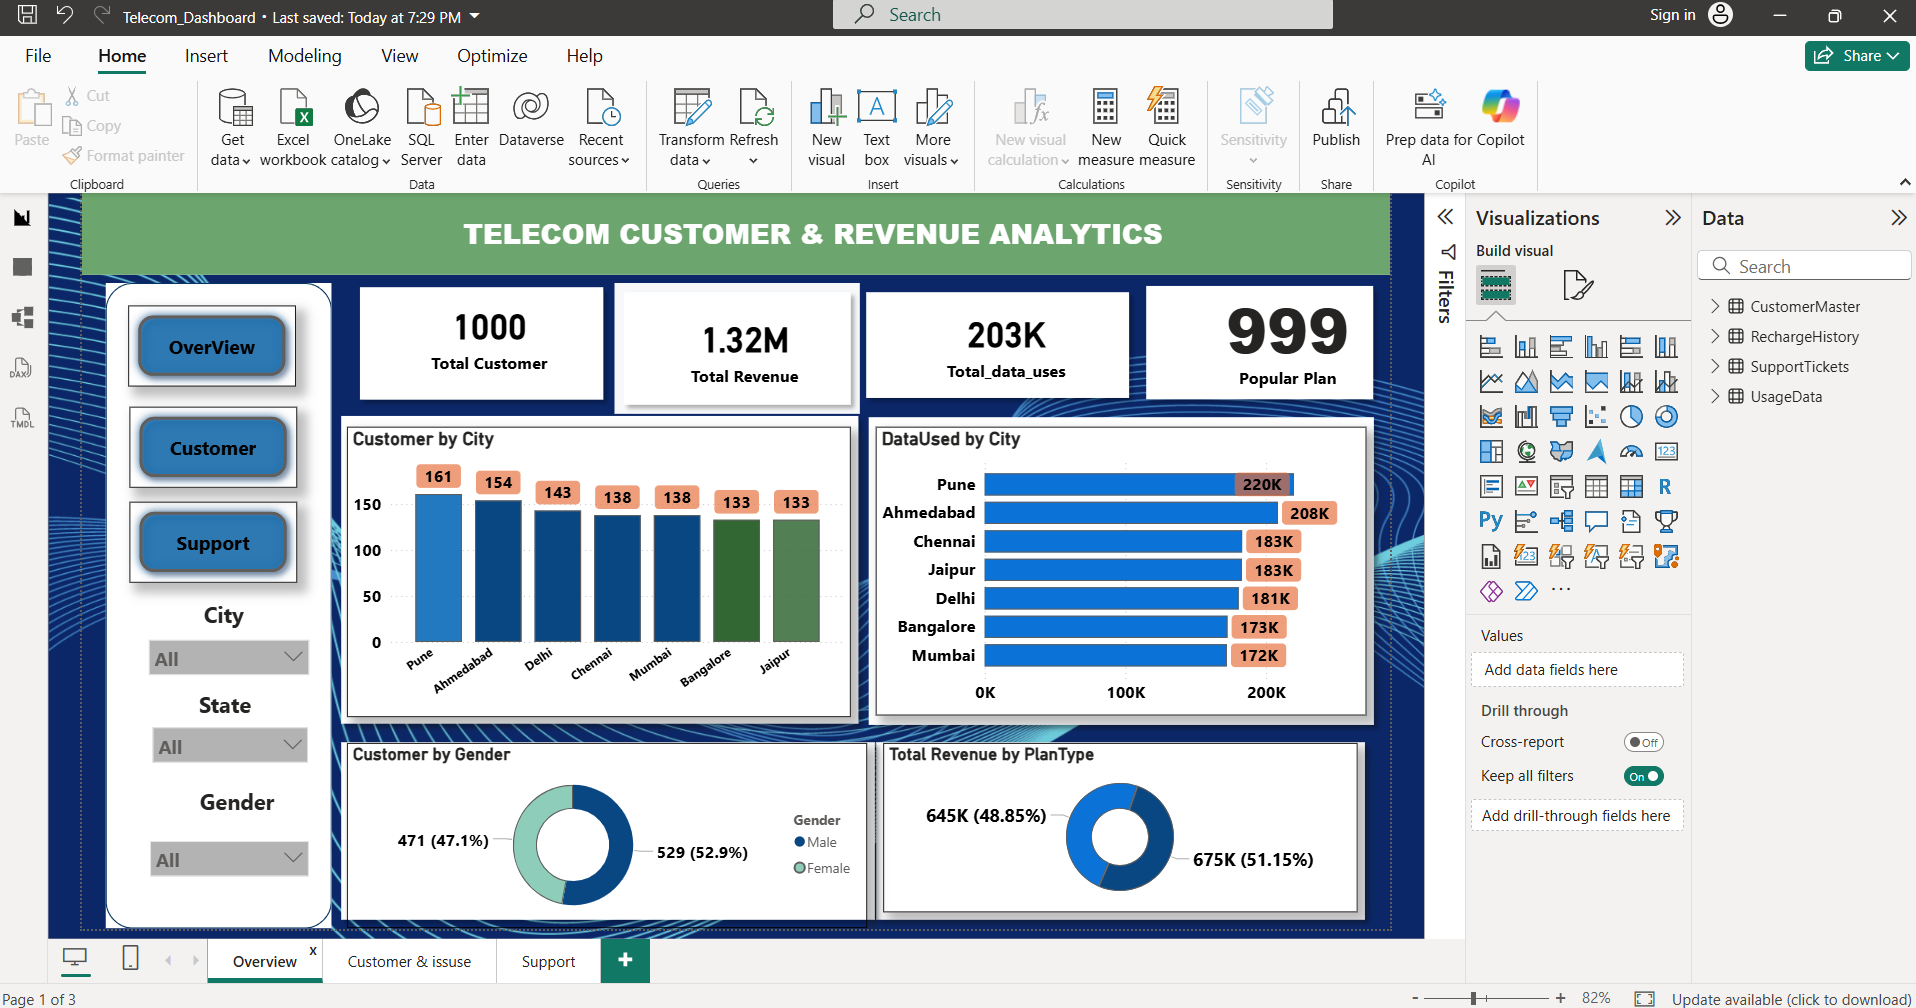

What the dashboard file says about the page in this screenshot:
{"tool":"powerbi","page":{"name":"Overview","canvas":[1280,720],"ordinal":0},"visuals":[{"type":"shape","box":[0,0,1280,80],"z":0},{"type":"shape","box":[263.4,83.4,256,128],"z":0,"group":"g10"},{"type":"shape","box":[761,210.7,512.2,319],"z":0,"group":"g4"},{"type":"group","id":"g1","title":"Group 4","box":[244.4,528.3,540,191.7],"z":0,"group":"g9"},{"type":"shape","box":[758.6,87.8,275.1,121.5],"z":1000,"group":"g7"},{"type":"card","fields":{"Values":["CustomerMaster.Total Customer"]},"box":[279.4,99.4,240,80],"z":1000,"group":"g10"},{"type":"group","id":"g2","title":"Group 4","box":[244.4,209.3,523.9,319],"z":1000},{"type":"shape","box":[244.4,209.3,523.9,319],"z":1000,"group":"g2"},{"type":"clusteredBarChart","title":"DataUsed by City","fields":{"Category":["CustomerMaster.City"],"Y":["RechargeHistory.Total Revenue"]},"box":[776.8,229,480,282.6],"z":1000,"group":"g4"},{"type":"shape","box":[244.4,528.3,540,191.7],"z":1000,"group":"g1"},{"type":"shape","box":[768.3,528.3,496.1,191.7],"z":1000,"group":"g3"},{"type":"image","box":[263.4,115.4,80,48],"z":2000,"group":"g10"},{"type":"group","id":"g3","title":"Group 4","box":[768.3,528.3,496.1,191.7],"z":2000},{"type":"textbox","box":[368,16,752,64],"z":3000},{"type":"shape","box":[520.9,88,240,128],"z":3000,"group":"g6"},{"type":"card","fields":{"Values":["RechargeHistory.Total Revenue"]},"box":[568.9,104,160,96],"z":4000,"group":"g6"},{"type":"group","id":"g4","title":"Group 5","box":[761,210.7,512.2,319],"z":4000},{"type":"image","box":[536.9,120,80,64],"z":5000,"group":"g6"},{"type":"donutChart","fields":{"Category":["CustomerMaster.PlanType"],"Y":["RechargeHistory.Total Revenue"]},"box":[784.4,538.5,463.9,165.4],"z":5000},{"type":"shape","box":[22.7,87.8,221.1,631.4],"z":6000},{"type":"textbox","box":[39.4,480,201.4,48.5],"z":7000},{"type":"textbox","box":[46.8,392.2,184.4,48.3],"z":8000},{"type":"group","id":"g5","title":"Group 1","box":[263.4,83.4,256.1,127.3],"z":9000},{"type":"card","fields":{"Values":["UsageData.Total_data_uses"]},"box":[792.8,83.4,223.9,127.3],"z":9000,"group":"g7"},{"type":"group","id":"g6","title":"Group 3","box":[520.9,88,239.7,128.4],"z":10000},{"type":"image","box":[758,113.3,80,48],"z":10000,"group":"g7"},{"type":"group","id":"g7","title":"Group 4","box":[758,83.4,275.1,127.3],"z":11000},{"type":"group","id":"g8","title":"Group 6","box":[1031.7,77.8,240,132.6],"z":12000},{"type":"group","id":"g9","title":"Group 7","box":[244.4,528.3,540,191.7],"z":13000},{"type":"slicer","fields":{"Values":["CustomerMaster.City"]},"box":[54.5,427,177.2,65.1],"z":14000},{"type":"slicer","fields":{"Values":["CustomerMaster.State"]},"box":[59.1,511.8,172.6,63.6],"z":15000},{"type":"donutChart","title":"Customer  by Gender","fields":{"Category":["CustomerMaster.Gender"],"Y":["CustomerMaster.Total Customer"]},"box":[259.3,537.9,509.1,181.1],"z":16000},{"type":"clusteredColumnChart","title":"Customer by City","fields":{"Category":["CustomerMaster.City"],"Y":["CustomerMaster.Total Customer"]},"box":[259,228.3,493.2,283.9],"z":17000},{"type":"actionButton","title":"Over","box":[46.8,209.3,163.9,79],"z":18000},{"type":"actionButton","title":"Over","box":[46.8,301.5,163.9,79],"z":19000},{"type":"shape","box":[1031.7,81.6,240,128.8],"z":20000,"group":"g8"},{"type":"textbox","box":[93.9,575.4,115.1,45.4],"z":20000},{"type":"image","box":[1033.4,108.7,112,48],"z":20250,"group":"g8"},{"type":"card","fields":{"Values":["RechargeHistory.Popular Plan"]},"box":[1092.1,77.8,175.6,127.3],"z":20500,"group":"g8"},{"type":"group","id":"g10","title":"Group 2","box":[263.4,83.4,256.1,127.3],"z":20501,"group":"g5"},{"type":"slicer","fields":{"Values":["CustomerMaster.Gender"]},"box":[56,623.9,175.6,63.6],"z":21000},{"type":"actionButton","title":"Over","box":[45.4,109.8,163.9,79],"z":22000}]}

Visuals, with their boxes on the page's 1280x720 design canvas (x1, y1, x2, y2). These are canvas units, not pixel positions in the 1916x1008 screenshot, which may show the page scaled, cropped or inside an application window:
shape: (0, 0, 1280, 80)
shape: (263, 83, 519, 211)
shape: (761, 211, 1273, 530)
"Group 4" group: (244, 528, 784, 720)
shape: (759, 88, 1034, 209)
card - CustomerMaster.Total Customer: (279, 99, 519, 179)
"Group 4" group: (244, 209, 768, 528)
shape: (244, 209, 768, 528)
"DataUsed by City" clusteredBarChart: (777, 229, 1257, 512)
shape: (244, 528, 784, 720)
shape: (768, 528, 1264, 720)
image: (263, 115, 343, 163)
"Group 4" group: (768, 528, 1264, 720)
textbox: (368, 16, 1120, 80)
shape: (521, 88, 761, 216)
card - RechargeHistory.Total Revenue: (569, 104, 729, 200)
"Group 5" group: (761, 211, 1273, 530)
image: (537, 120, 617, 184)
donutChart - CustomerMaster.PlanType x RechargeHistory.Total Revenue: (784, 538, 1248, 704)
shape: (23, 88, 244, 719)
textbox: (39, 480, 241, 528)
textbox: (47, 392, 231, 440)
"Group 1" group: (263, 83, 520, 211)
card - UsageData.Total_data_uses: (793, 83, 1017, 211)
"Group 3" group: (521, 88, 761, 216)
image: (758, 113, 838, 161)
"Group 4" group: (758, 83, 1033, 211)
"Group 6" group: (1032, 78, 1272, 210)
"Group 7" group: (244, 528, 784, 720)
slicer - CustomerMaster.City: (54, 427, 232, 492)
slicer - CustomerMaster.State: (59, 512, 232, 575)
"Customer  by Gender" donutChart: (259, 538, 768, 719)
"Customer by City" clusteredColumnChart: (259, 228, 752, 512)
"Over" actionButton: (47, 209, 211, 288)
"Over" actionButton: (47, 302, 211, 380)
shape: (1032, 82, 1272, 210)
textbox: (94, 575, 209, 621)
image: (1033, 109, 1145, 157)
card - RechargeHistory.Popular Plan: (1092, 78, 1268, 205)
"Group 2" group: (263, 83, 520, 211)
slicer - CustomerMaster.Gender: (56, 624, 232, 688)
"Over" actionButton: (45, 110, 209, 189)
